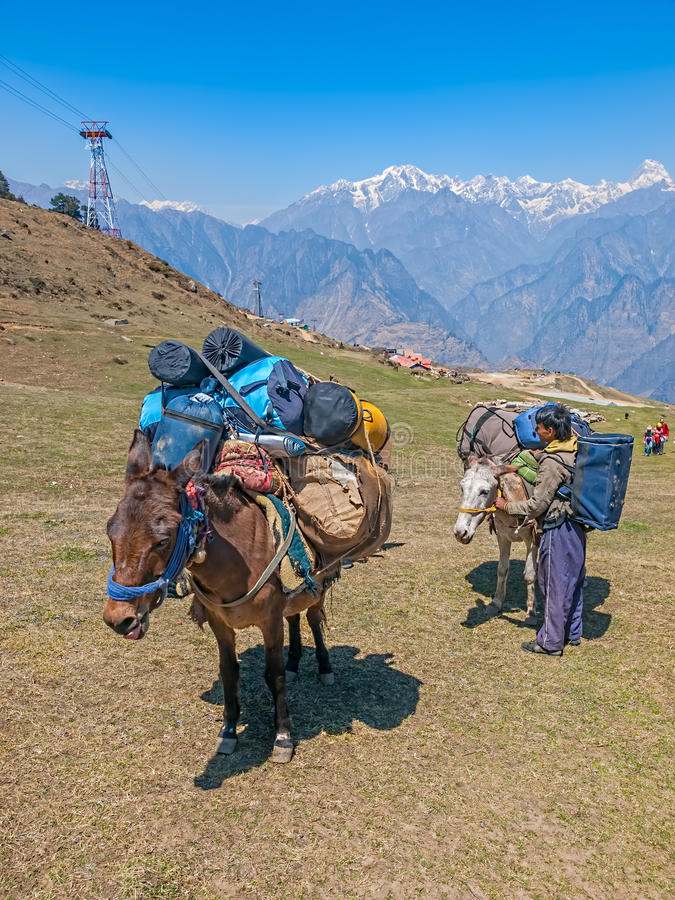equine: (61, 398, 420, 793), (452, 438, 624, 615)
human: (499, 404, 647, 655), (649, 415, 674, 468)
